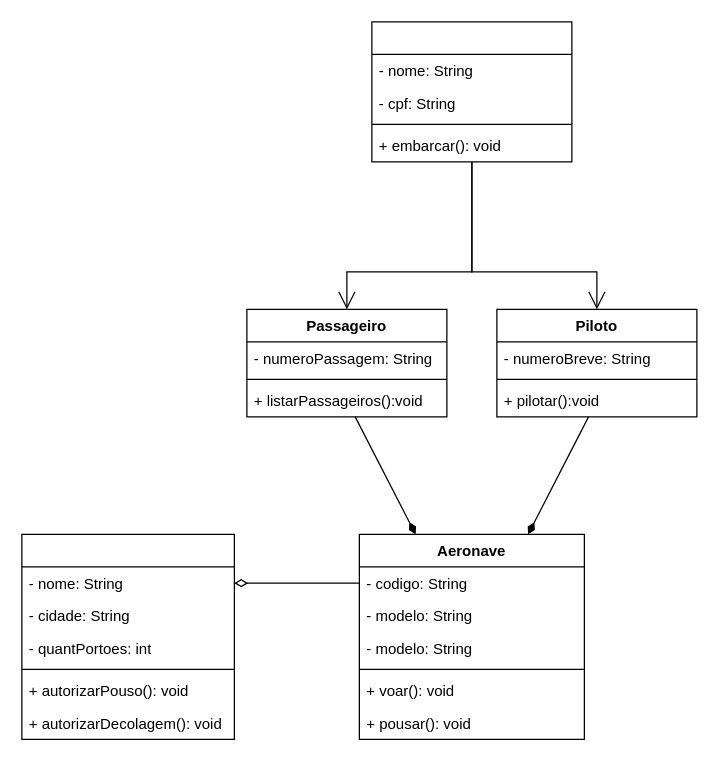
Image size: 719x765. Some labels were removed from this diagram. The box of each missing label's shape, as (x1, y1, x2, y2) in pixels:
Aeroporto: (21, 533, 234, 739)
Pessoa: (371, 21, 572, 162)
